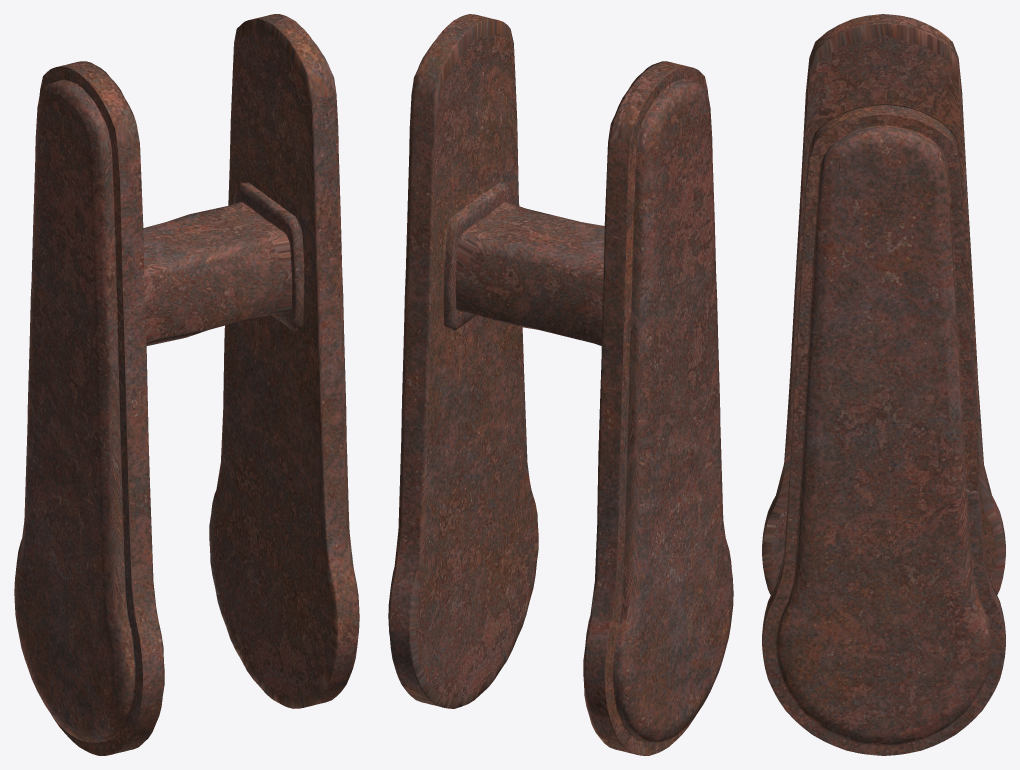
File: Pieza2.obj
The picture shows the model from 3 angles, left to right: view 1: azimuth 30°, elevation 25°; view 2: azimuth 150°, elevation 25°; view 3: azimuth 270°, elevation 25°; orthographic projection. The views are drawn at different scales.
Parts seen in each view (by area): view 1: pieza_2_0002:pCylinder8; view 2: pieza_2_0002:pCylinder8; view 3: pieza_2_0002:pCylinder8.
Boxes of the visible parts, x1,y1,x2,y2 form: pieza_2_0002:pCylinder8: (14, 14, 359, 755); pieza_2_0002:pCylinder8: (388, 14, 733, 755); pieza_2_0002:pCylinder8: (762, 14, 1005, 755).
Size of the model in its own units: 2.87 by 7.56 by 2.6.
Materials: 1 (1 with a texture image).
